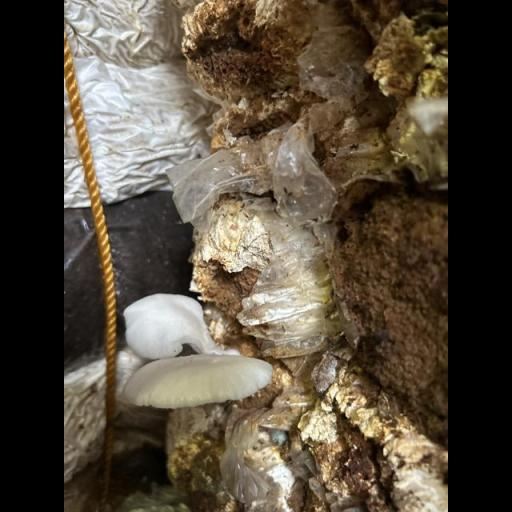White Oyster Mushroom: (119, 293, 273, 409)
